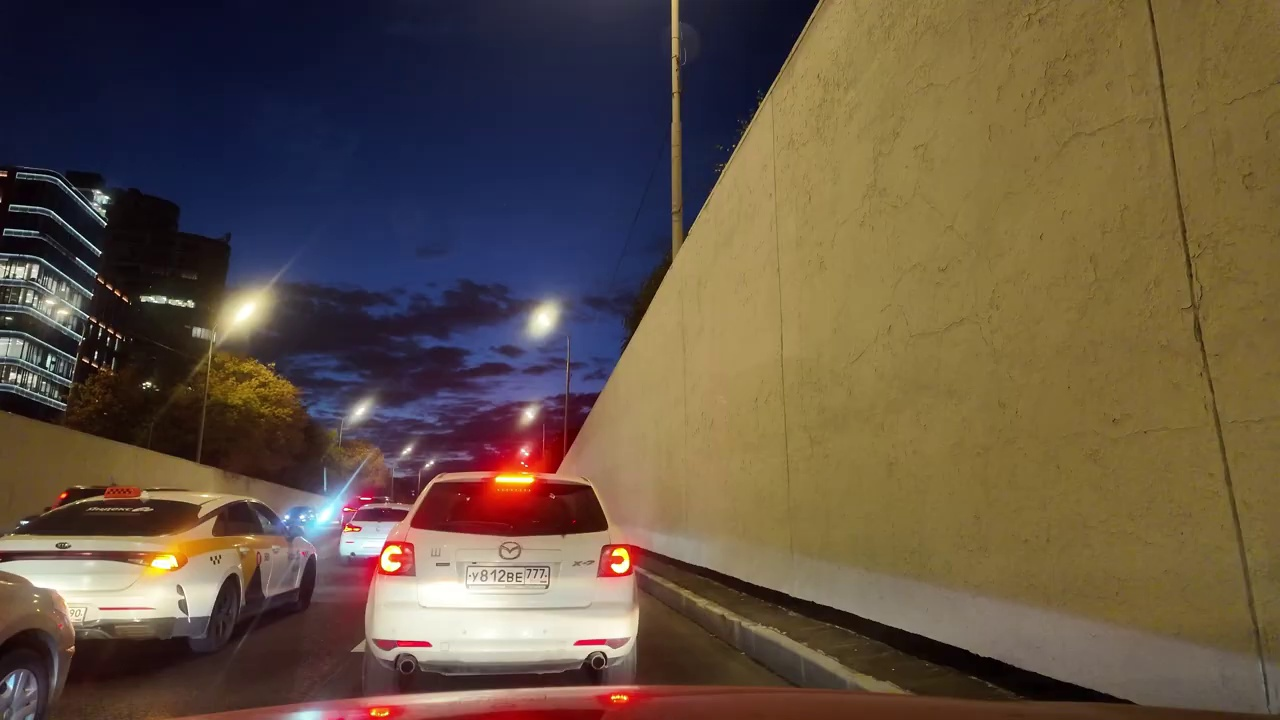acesa: (218, 290, 267, 335), (521, 299, 563, 341)
